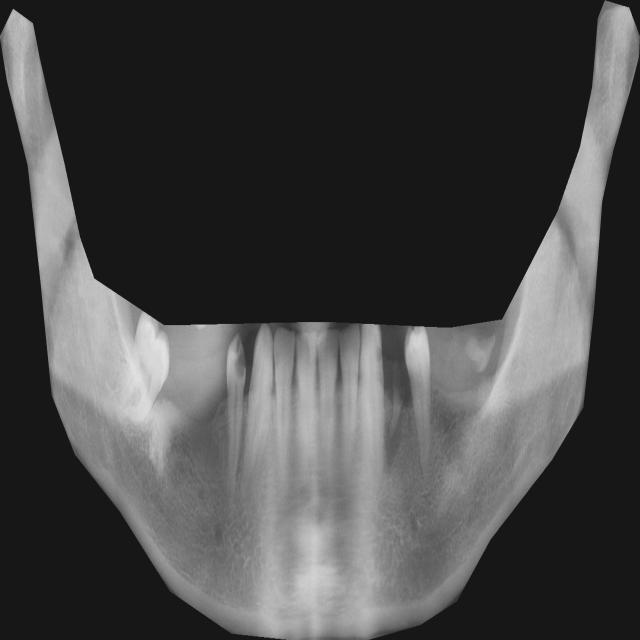mandibula: (0, 0, 640, 640)
